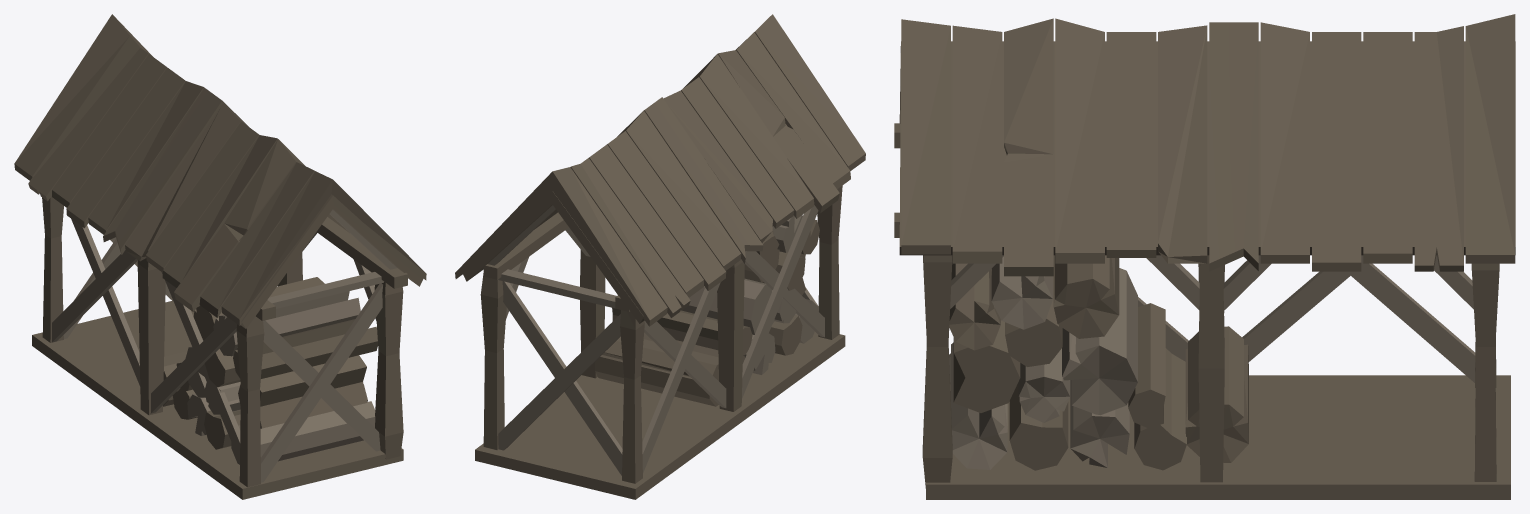
Rendered from Firewood.glb.
3 renders of one model, left to right at view 1: azimuth 30°, elevation 25°; view 2: azimuth 150°, elevation 25°; view 3: azimuth 270°, elevation 25°, orthographic. The views are drawn at different scales.
Visible parts, largest first — view 1: FIREWOOD; view 2: FIREWOOD; view 3: FIREWOOD.
Boxes of the visible parts, x1=… form: FIREWOOD: x1=14, y1=14, x2=426, y2=499; FIREWOOD: x1=455, y1=14, x2=865, y2=499; FIREWOOD: x1=894, y1=14, x2=1515, y2=499.
Size of the model in its own units: 2.28 by 3.25 by 4.23.
1 material, 1 textured.
